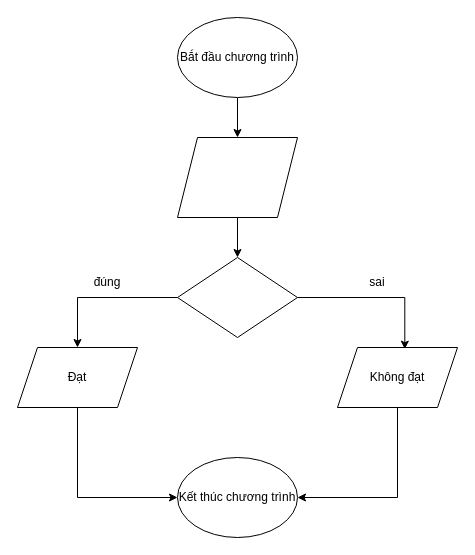
Image size: 475x555. Some labels were removed from this diagram. Each missing label, with the centre of its shape:
"Kiểm tra điều kiện điểm >=5?" goes at [237,297].
"Nhập vào số điểm" goes at [237,177].
